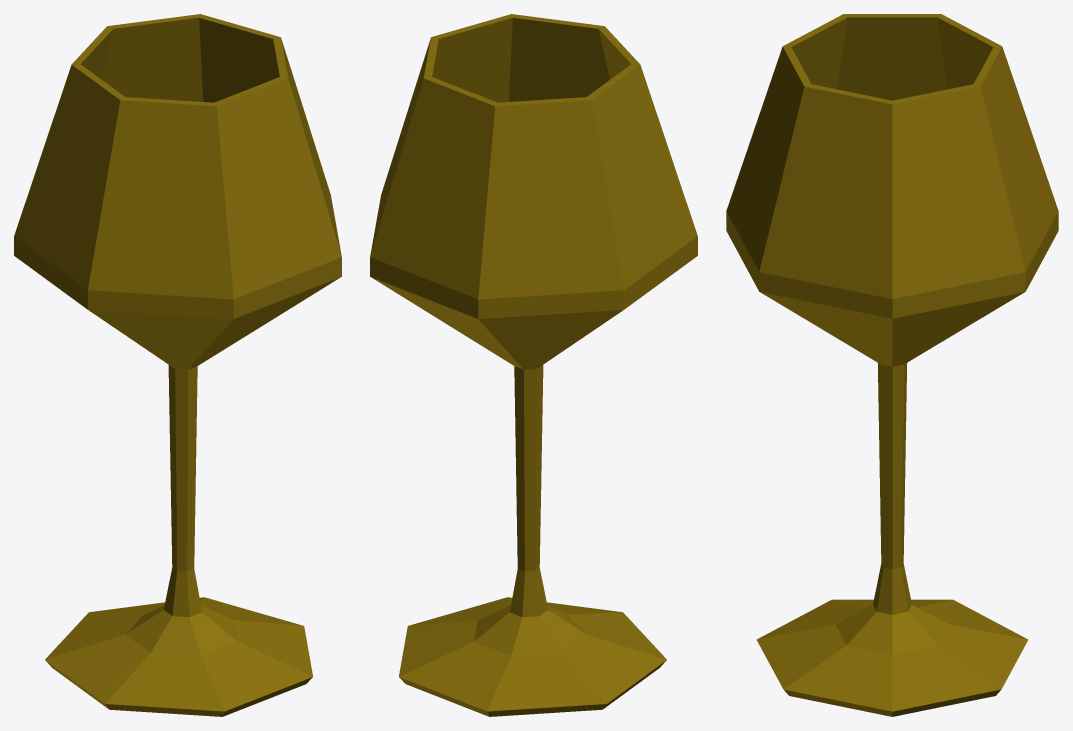
The model's file is obj_glass_3.FBX.
3 views of the same model, side by side, from view 1: azimuth 30°, elevation 25°; view 2: azimuth 150°, elevation 25°; view 3: azimuth 270°, elevation 25° (orthographic).
Visible parts, largest first — view 1: Object003; view 2: Object003; view 3: Object003.
Boxes of the visible parts, x1,y1,x2,y2 form: Object003: [14, 14, 341, 716]; Object003: [370, 14, 697, 716]; Object003: [726, 14, 1058, 716].
Size of the model in its own units: 18.51 by 38.1 by 18.99.
